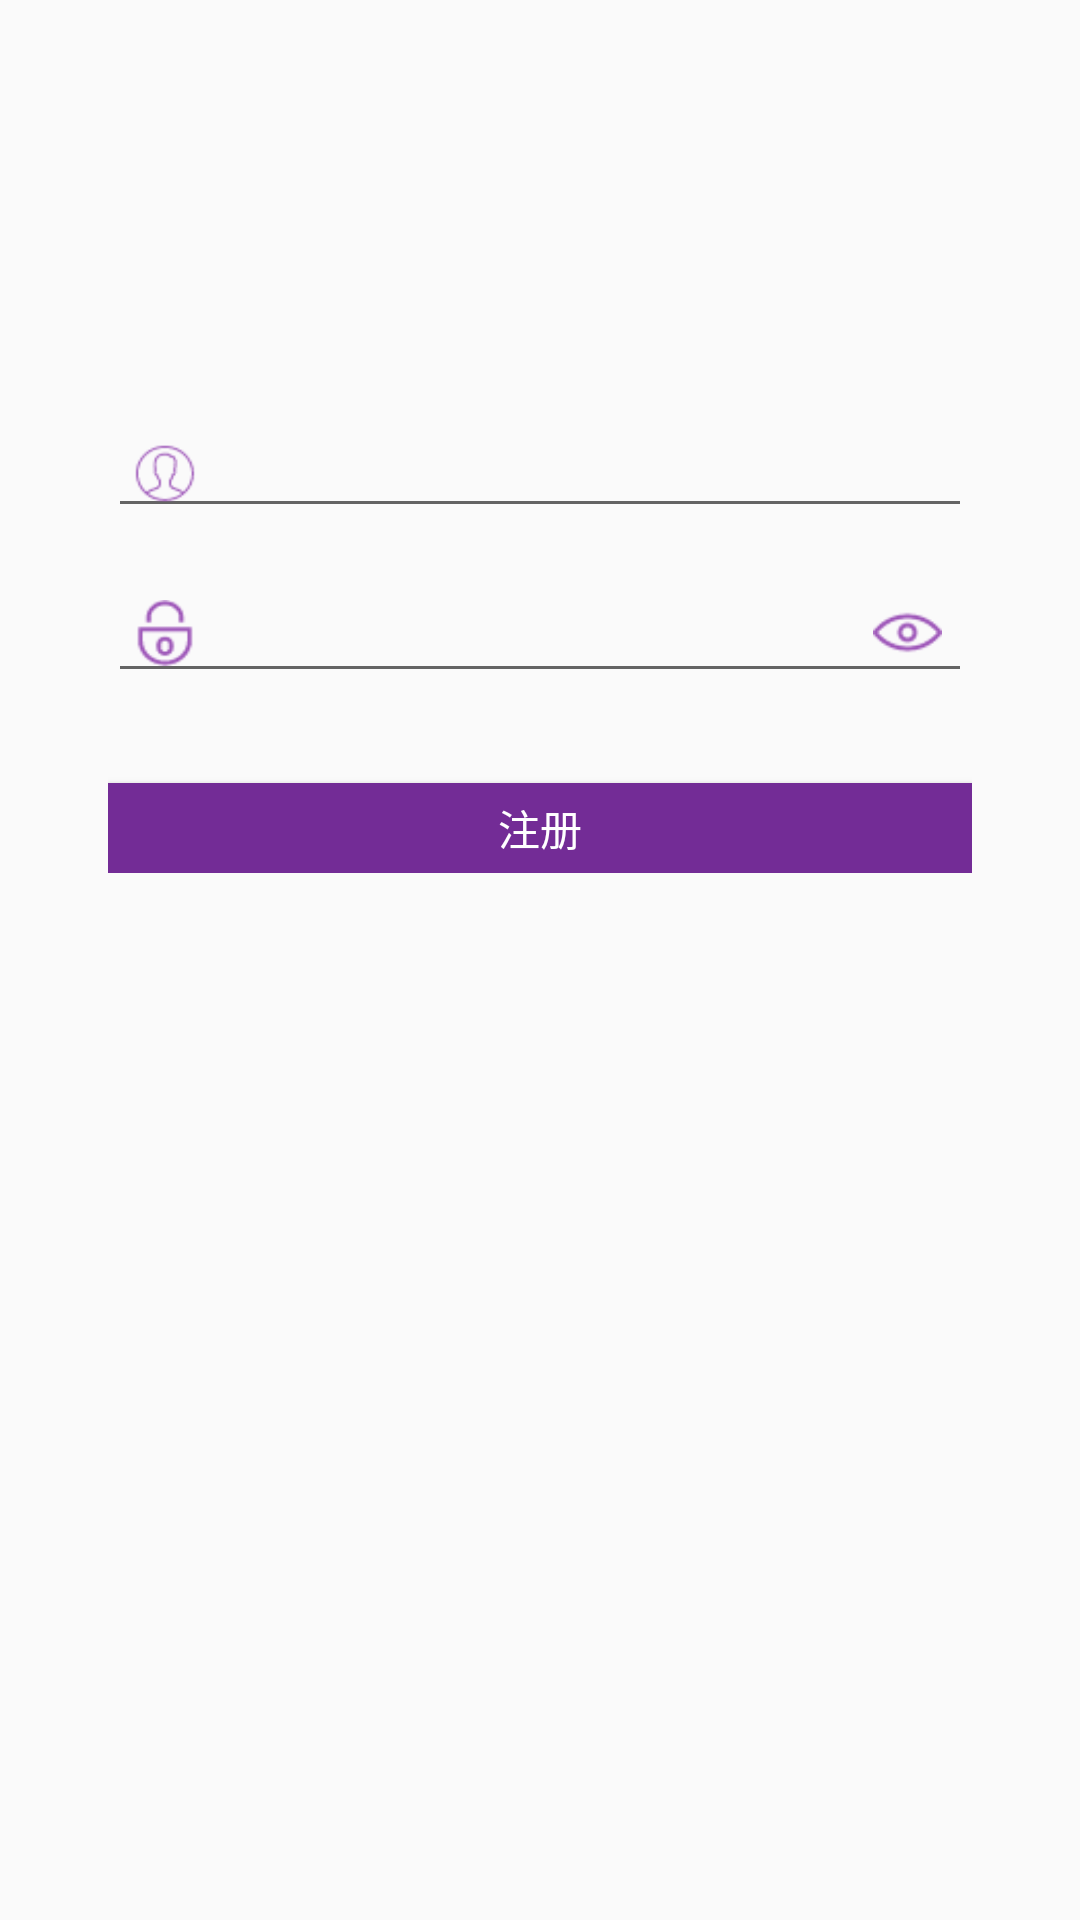

Named icons in this screenshot (1080 × 1920) and their bounding boxes, (x1, y1, x2, y2):
eye: (873, 613, 942, 652)
mima: (137, 600, 193, 666)
user: (132, 445, 198, 504)
